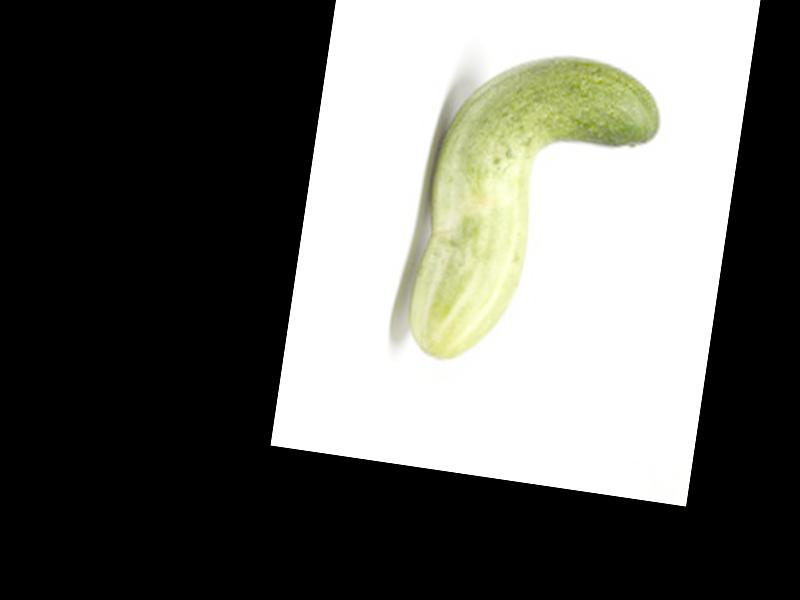Cucumber: (401, 37, 667, 386)
